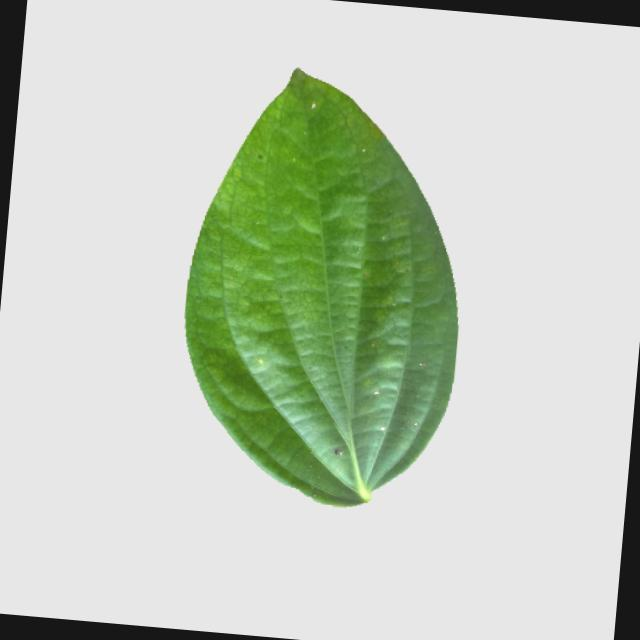healthy: (160, 53, 489, 520)
